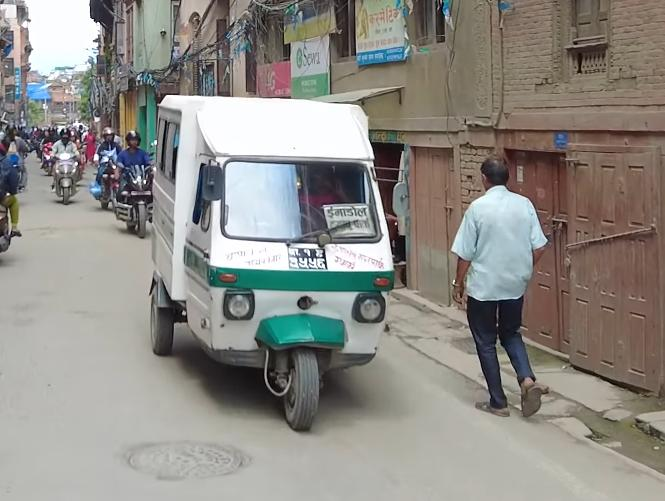bike: (113, 161, 163, 238)
scooter: (47, 145, 84, 205)
tempo: (144, 87, 398, 439)
